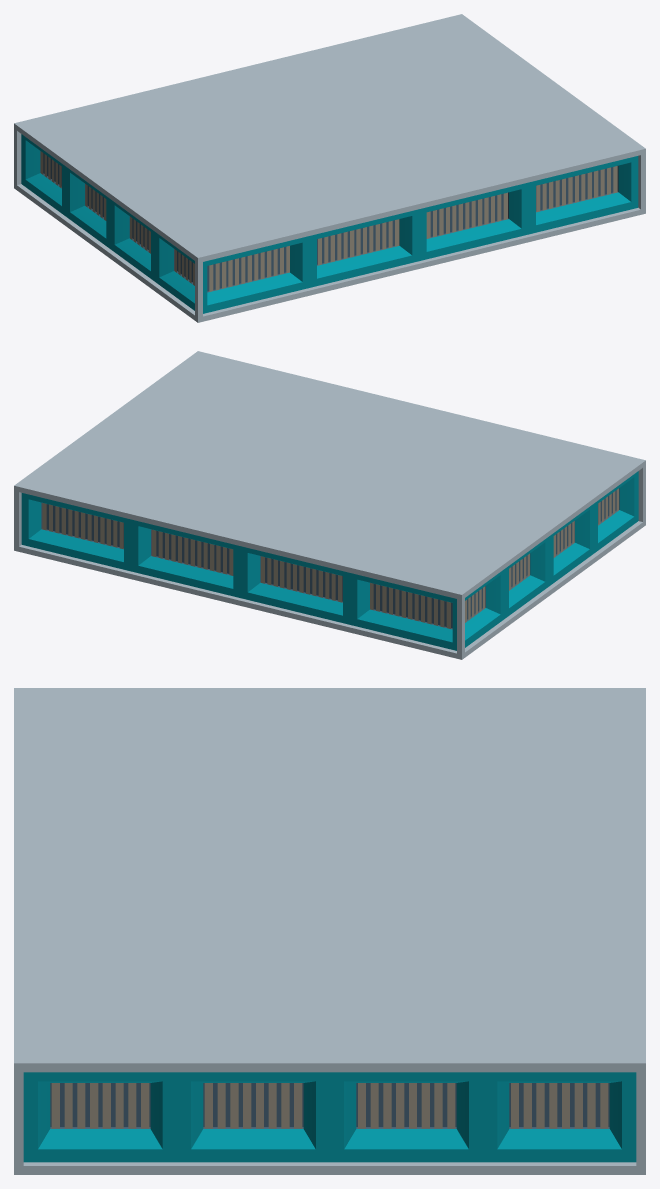
The picture shows the model from 3 angles, top to bottom: view 1: azimuth 30°, elevation 25°; view 2: azimuth 150°, elevation 25°; view 3: azimuth 270°, elevation 25°; orthographic projection. The views are drawn at different scales.
Parts seen in each view (by area): view 1: base2; view 2: base2; view 3: base2.
Part boxes in pixels (bbox=[...]): base2: bbox=[14, 14, 645, 322]; base2: bbox=[14, 351, 645, 659]; base2: bbox=[14, 688, 645, 1174].
Size of the model in its own units: 1393 by 193 by 991.
